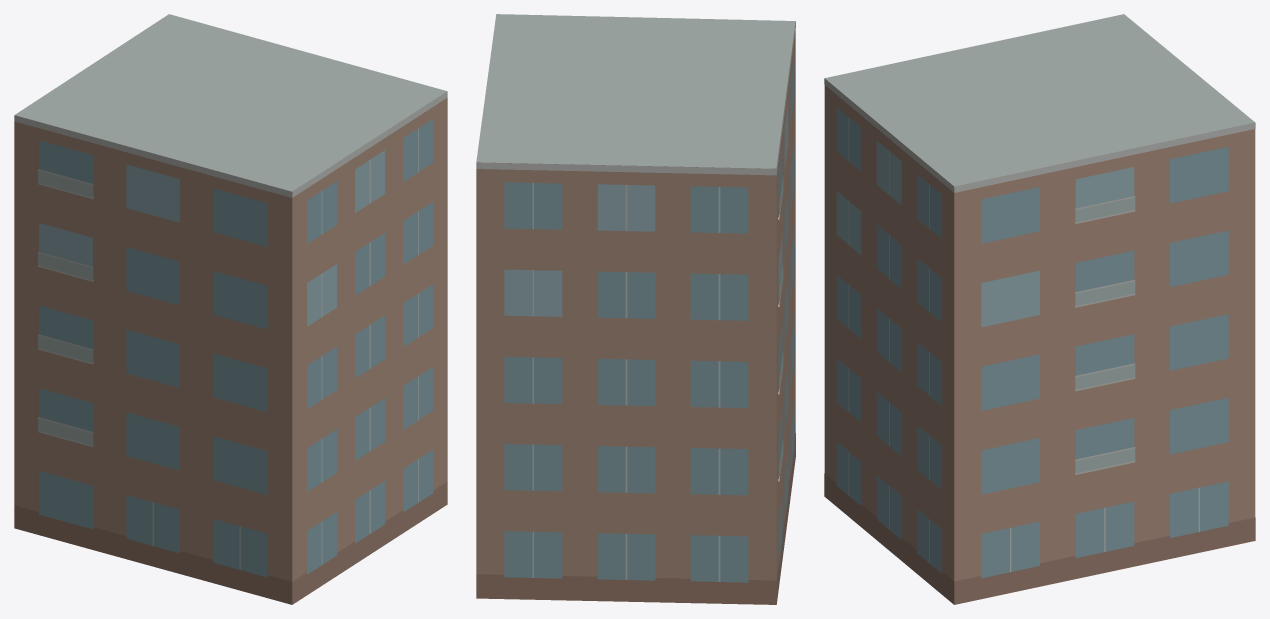
Rendered from survey-upis-32839751.glb.
3 views of the same model, side by side, from view 1: azimuth 30°, elevation 25°; view 2: azimuth 150°, elevation 25°; view 3: azimuth 270°, elevation 25° (orthographic). The views are drawn at different scales.
Visible parts, largest first — view 1: survey-upis-32839751.tmp; view 2: survey-upis-32839751.tmp; view 3: survey-upis-32839751.tmp.
Part boxes in pixels (x1,y1,x2,y2): survey-upis-32839751.tmp: (14, 14, 447, 604); survey-upis-32839751.tmp: (476, 14, 795, 604); survey-upis-32839751.tmp: (824, 14, 1255, 604).
Bounding box in the file's own units: 14.26 × 16.1 × 15.04.
